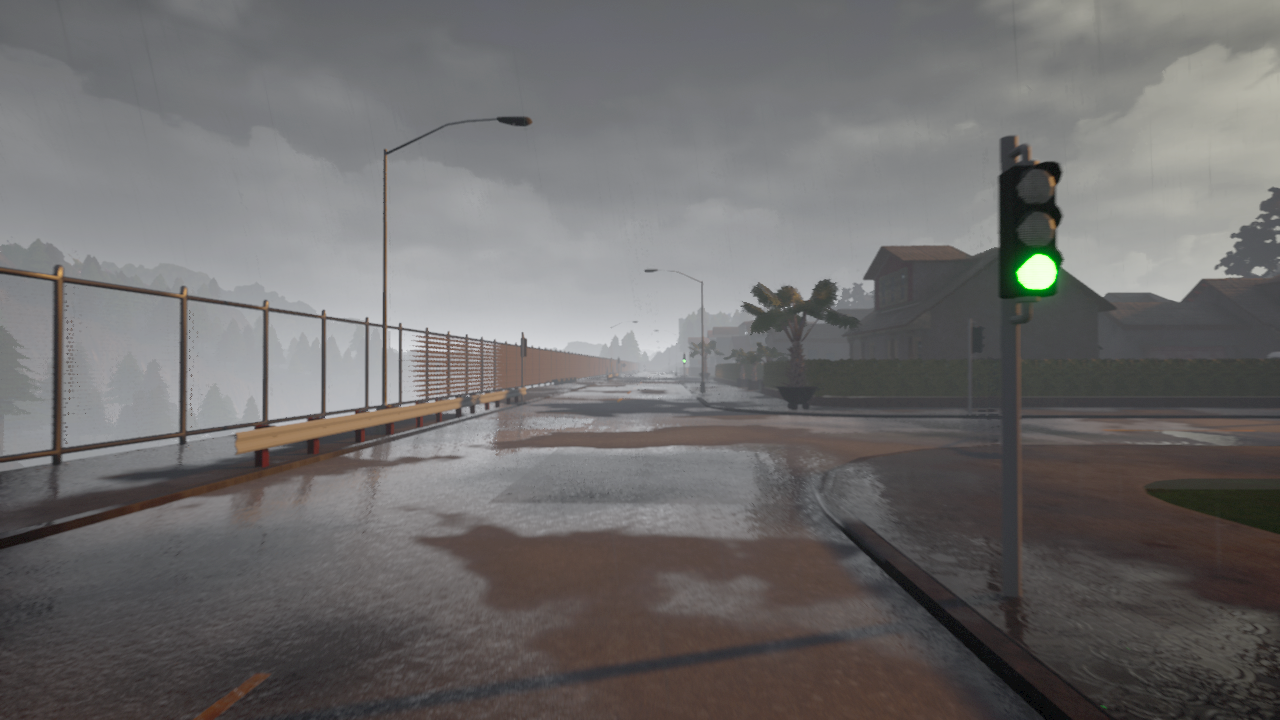green: (995, 161, 1066, 301)
